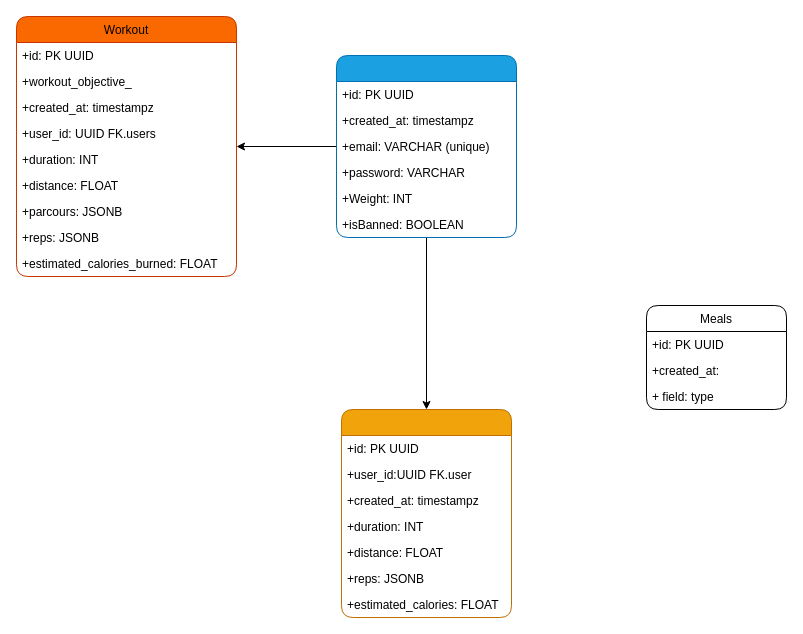
Image size: 803x634. Some labels were removed from this diagram. Here are the shapes that lost their labels. From the top down, the box of each, then its label:
(336, 54, 516, 238): users
(340, 408, 512, 618): Workout_Objective
